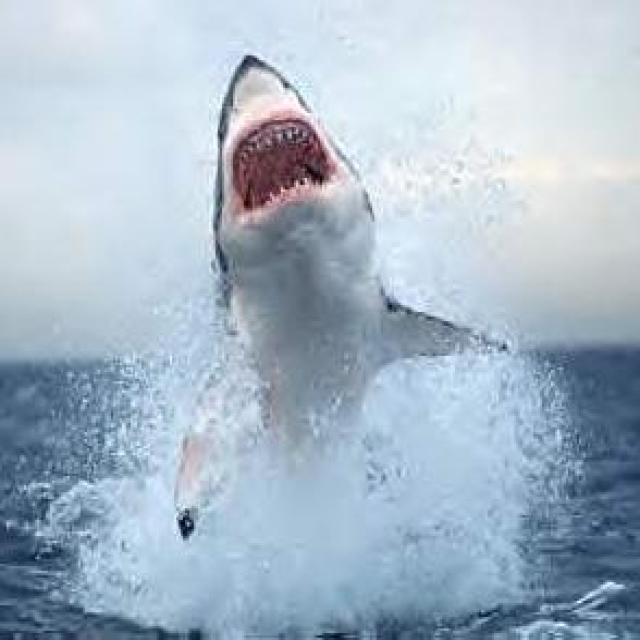Carnivorous: (174, 55, 494, 541)
